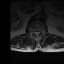CCS_normal: (36, 29, 38, 38)
LFS_stenosis: (40, 29, 42, 34)
LLS_normal: (38, 29, 40, 36)
RFS_stenosis: (32, 30, 33, 35)
RLS_normal: (34, 30, 36, 36)
